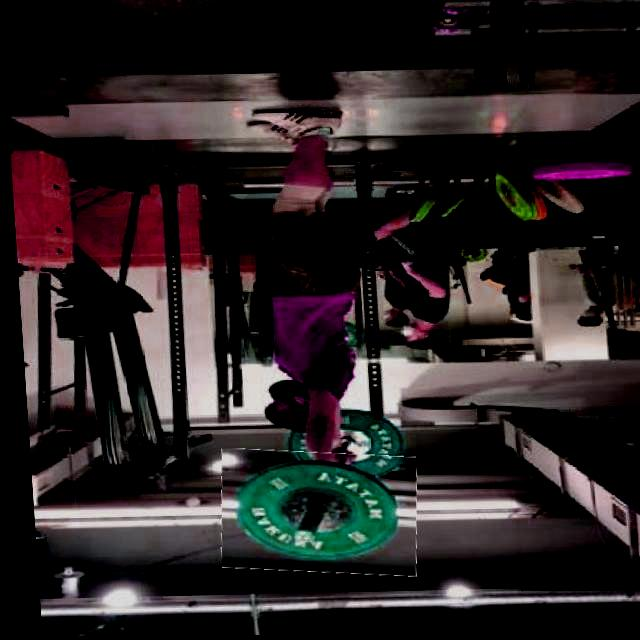barbell: (211, 450, 415, 579)
